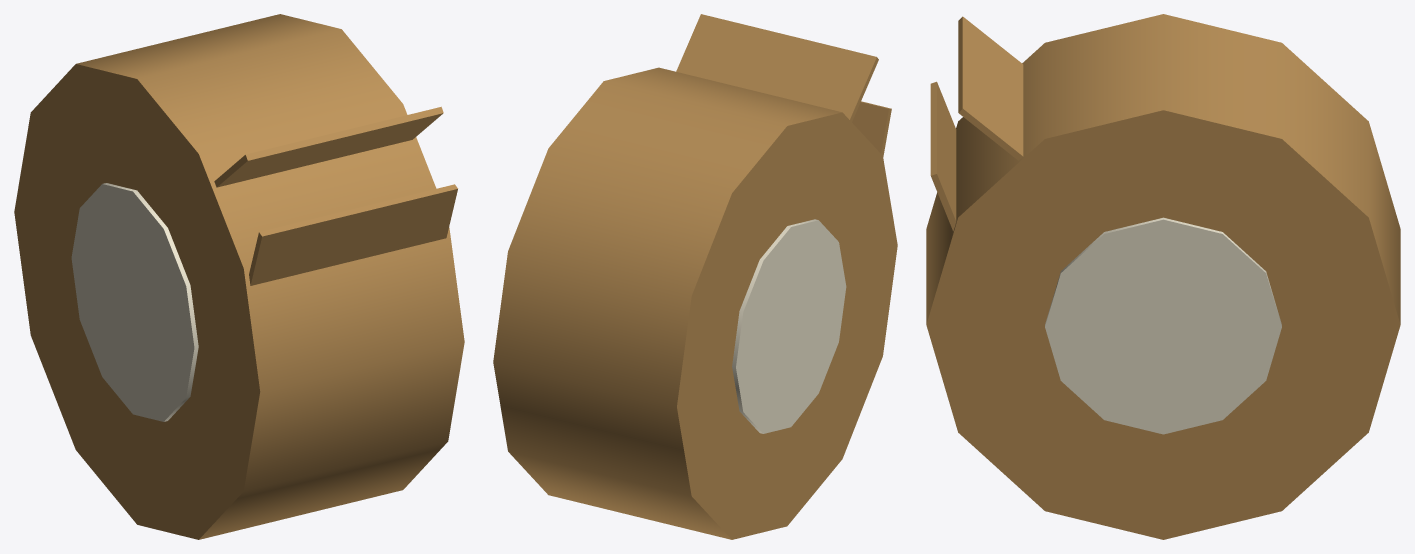
The model's file is LOC_CuonBangDinh.glb.
3 renders of one model, left to right at view 1: azimuth 30°, elevation 25°; view 2: azimuth 150°, elevation 25°; view 3: azimuth 270°, elevation 25°, orthographic. The views are drawn at different scales.
Parts seen in each view (by area): view 1: BD_Cuon, BD_LoiGiay, BD_MepDinhNguoc, BD_MepBocLen; view 2: BD_Cuon, BD_LoiGiay, BD_MepBocLen, BD_MepDinhNguoc; view 3: BD_Cuon, BD_LoiGiay, BD_MepBocLen, BD_MepDinhNguoc.
Boxes of the visible parts, <box> form: BD_Cuon: <box>14,14,464,539</box>; BD_LoiGiay: <box>71,183,198,421</box>; BD_MepDinhNguoc: <box>249,184,457,285</box>; BD_MepBocLen: <box>214,106,443,187</box>; BD_Cuon: <box>493,67,897,539</box>; BD_LoiGiay: <box>732,219,846,433</box>; BD_MepBocLen: <box>676,14,878,121</box>; BD_MepDinhNguoc: <box>852,101,891,156</box>; BD_Cuon: <box>926,14,1400,539</box>; BD_LoiGiay: <box>1045,217,1281,434</box>; BD_MepBocLen: <box>958,16,1023,160</box>; BD_MepDinhNguoc: <box>930,81,956,231</box>.
Size of the model in its own units: 0.05 by 0.1 by 0.1.
